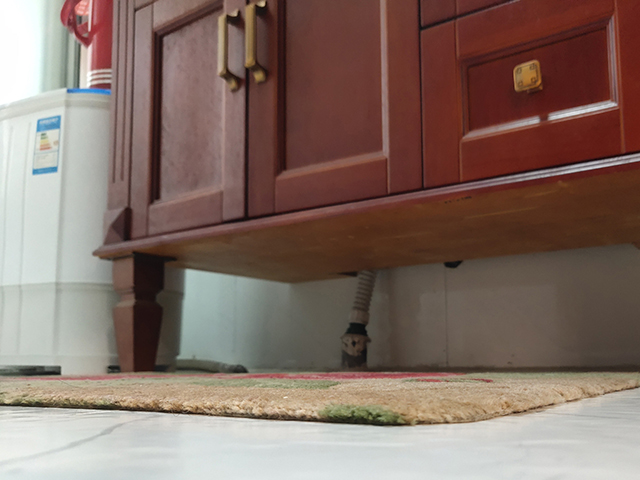cabinet: (89, 1, 640, 374)
carpet: (1, 367, 640, 428)
